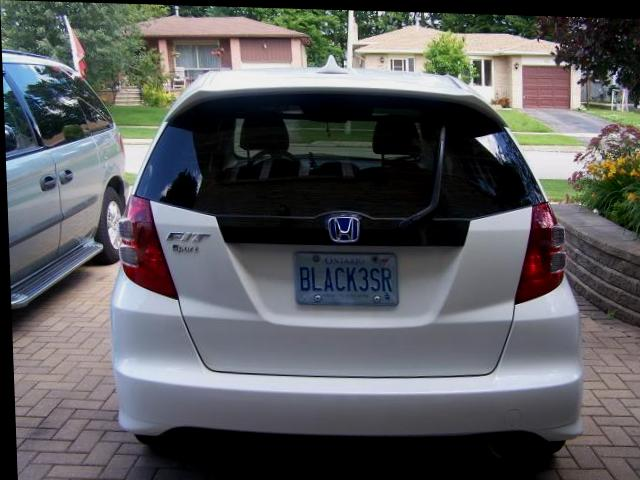License_Plate: (289, 244, 405, 312)
